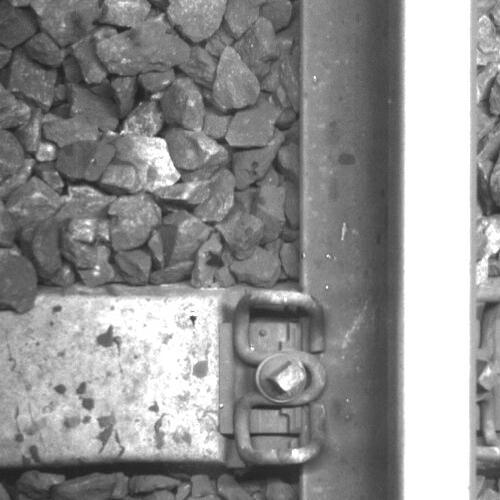rail: (398, 1, 476, 500)
tie_concr: (1, 293, 304, 460)
vossloh: (219, 292, 327, 466)
